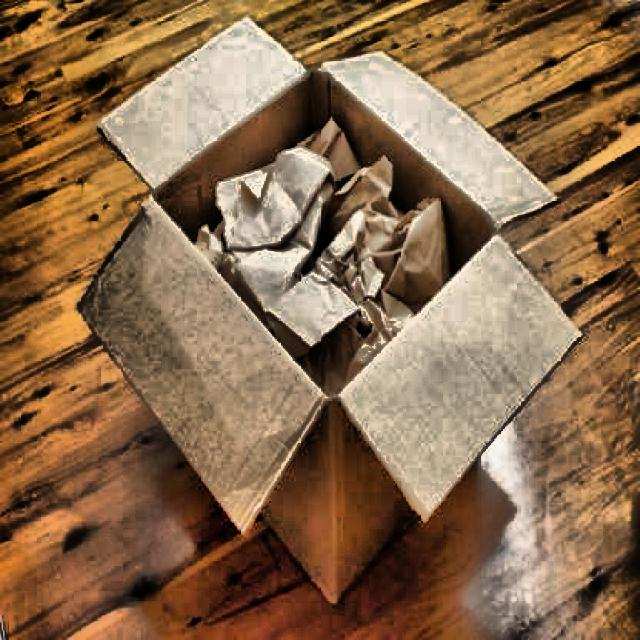Cardbox: (68, 14, 583, 566)
